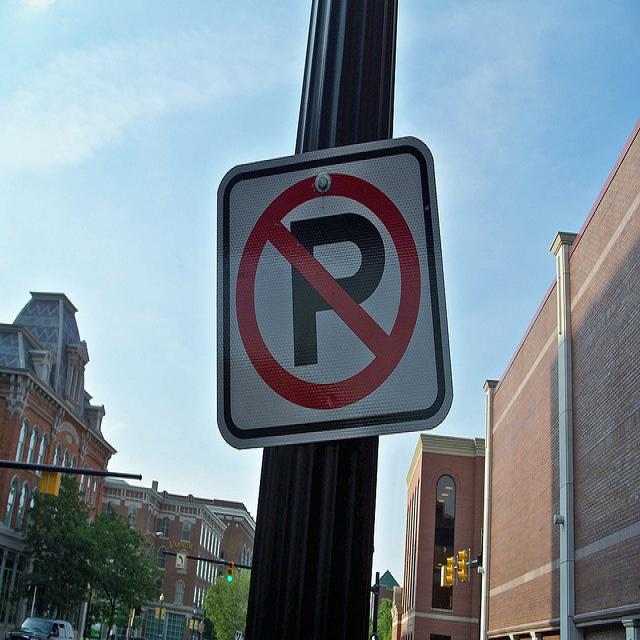Vehicle: (4, 616, 75, 640)
